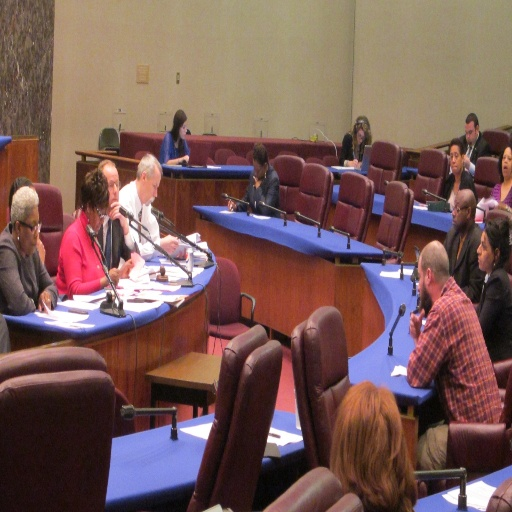hand: (409, 308, 424, 340), (108, 197, 126, 223), (159, 233, 179, 254), (38, 290, 52, 313), (120, 256, 132, 279), (37, 235, 45, 265), (109, 267, 120, 283), (462, 151, 470, 170), (227, 198, 237, 213), (252, 174, 262, 187), (181, 152, 189, 167), (348, 158, 356, 169), (357, 159, 362, 167)
